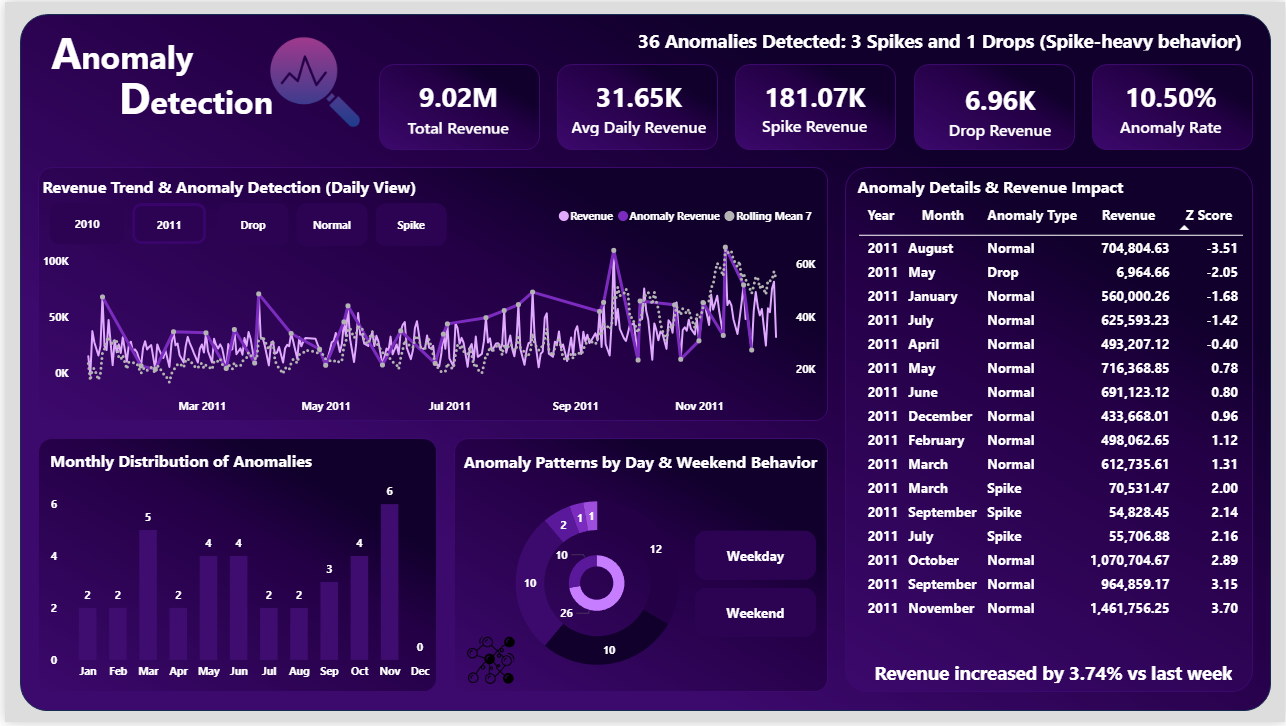

What the dashboard file says about the page in this screenshot:
{"tool":"powerbi","page":{"name":"Time-Series Analysis","canvas":[1280,720],"ordinal":0},"visuals":[{"type":"image","box":[448.8,633.8,73.8,48.8],"z":0},{"type":"lineChart","title":"Revenue Trend & Anomaly Detection (Daily View)","fields":{"Y":["Sum(daily_anomaly_data.Revenue)","daily_anomaly_data.Anomaly Revenue"],"Category":["Date_Dim.Date.Variation.Date Hierarchy.Year","Date_Dim.Date.Variation.Date Hierarchy.Month","Date_Dim.Date.Variation.Date Hierarchy.Day"],"Y2":["Sum(daily_anomaly_data.Rolling_Mean_7)"]},"box":[32.5,173.8,783.8,247.5],"z":1000},{"type":"advancedSlicerVisual","fields":{"Values":["Date_Dim.Year"]},"box":[40,196.2,167.5,51.2],"z":2000},{"type":"donutChart","fields":{"Y":["_Measueres.Total Anomalies"],"Category":["Date_Dim.Day Name"]},"box":[432.5,463.8,320,235],"z":3000},{"type":"cardVisual","fields":{"Data":["_Measueres.Total Revenue"]},"box":[371.4,64.3,164.3,85.7],"z":4000},{"type":"advancedSlicerVisual","fields":{"Values":["Date_Dim.Weekend_Label"]},"box":[685,523.8,131.2,117.5],"z":5000},{"type":"cardVisual","fields":{"Data":["_Measueres.Anomaly Insight"]},"box":[602.9,8.6,665.7,57.1],"z":6000},{"type":"advancedSlicerVisual","fields":{"Values":["daily_anomaly_data.Anomaly_Type"]},"box":[207.5,196.2,241.2,53.8],"z":7000},{"type":"cardVisual","fields":{"Data":["_Measueres.Avg Daily Revenue"]},"box":[535.7,60,195.7,91.4],"z":8000},{"type":"cardVisual","fields":{"Data":["daily_anomaly_data.Spike Revenue"]},"box":[725.7,57.1,167.1,95.7],"z":9000},{"type":"tableEx","title":"Anomaly Details & Revenue Impact ","fields":{"Values":["Date_Dim.Date.Variation.Date Hierarchy.Year","Date_Dim.Date.Variation.Date Hierarchy.Month","daily_anomaly_data.Anomaly_Type","Sum(daily_anomaly_data.Revenue)","Sum(daily_anomaly_data.Z_Score)"]},"box":[847.1,174.3,401.4,508.6],"z":10000},{"type":"columnChart","title":"Monthly Distribution of Anomalies","fields":{"Y":["_Measueres.Total Anomalies"],"Category":["Date_Dim.Month"]},"box":[40,447.1,401.4,238.6],"z":11000},{"type":"cardVisual","fields":{"Data":["_Measueres.Anomaly Rate"]},"box":[1084.3,55.7,164.3,98.6],"z":12000},{"type":"cardVisual","fields":{"Data":["daily_anomaly_data.Drop Revenue"]},"box":[912.9,61.4,165.7,94.3],"z":13000},{"type":"donutChart","fields":{"Category":["Date_Dim.Weekend_Label"],"Y":["_Measueres.Total Anomalies"]},"box":[538.8,536.2,106.2,90],"z":14000},{"type":"cardVisual","fields":{"Data":["_Measueres.Revenue WoW Insight"]},"box":[840,641.4,417.1,57.1],"z":15000},{"type":"textbox","box":[454.3,444.3,378.6,38.6],"z":16000},{"type":"textbox","box":[41.2,16.2,172.5,67.5],"z":17000},{"type":"textbox","box":[108.8,61.2,180,71.2],"z":18000},{"type":"image","box":[255,30,108.8,100],"z":19000}]}

Visuals, with their boxes in screenshot pixels (x1, y1, x2, y2), scaled from the page's 1280x720 canvas onto the 1286x726 screenshot:
image: [x1=451, y1=639, x2=525, y2=688]
"Revenue Trend & Anomaly Detection (Daily View)" lineChart: [x1=33, y1=175, x2=820, y2=425]
advancedSlicerVisual - Date_Dim.Year: [x1=40, y1=198, x2=208, y2=249]
donutChart - _Measueres.Total Anomalies x Date_Dim.Day Name: [x1=435, y1=468, x2=756, y2=705]
cardVisual - _Measueres.Total Revenue: [x1=373, y1=65, x2=538, y2=151]
advancedSlicerVisual - Date_Dim.Weekend_Label: [x1=688, y1=528, x2=820, y2=647]
cardVisual - _Measueres.Anomaly Insight: [x1=606, y1=9, x2=1275, y2=66]
advancedSlicerVisual - daily_anomaly_data.Anomaly_Type: [x1=208, y1=198, x2=451, y2=252]
cardVisual - _Measueres.Avg Daily Revenue: [x1=538, y1=60, x2=735, y2=153]
cardVisual - daily_anomaly_data.Spike Revenue: [x1=729, y1=58, x2=897, y2=154]
"Anomaly Details & Revenue Impact " tableEx: [x1=851, y1=176, x2=1254, y2=689]
"Monthly Distribution of Anomalies" columnChart: [x1=40, y1=451, x2=443, y2=691]
cardVisual - _Measueres.Anomaly Rate: [x1=1089, y1=56, x2=1254, y2=156]
cardVisual - daily_anomaly_data.Drop Revenue: [x1=917, y1=62, x2=1084, y2=157]
donutChart - Date_Dim.Weekend_Label x _Measueres.Total Anomalies: [x1=541, y1=541, x2=648, y2=631]
cardVisual - _Measueres.Revenue WoW Insight: [x1=844, y1=647, x2=1263, y2=704]
textbox: [x1=456, y1=448, x2=837, y2=487]
textbox: [x1=41, y1=16, x2=215, y2=84]
textbox: [x1=109, y1=62, x2=290, y2=134]
image: [x1=256, y1=30, x2=366, y2=131]
